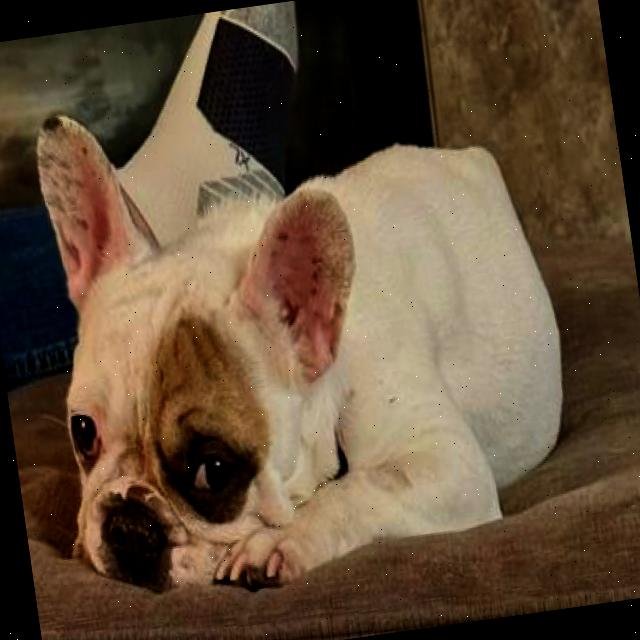french_bulldog_dog: (6, 69, 406, 626)
